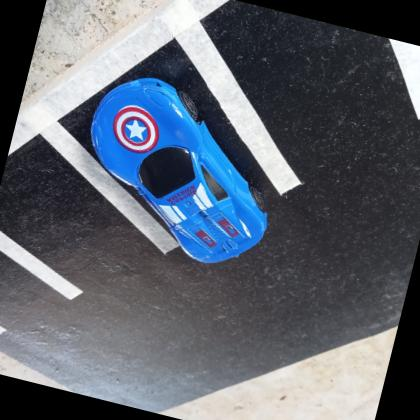Car: (67, 66, 294, 274)
